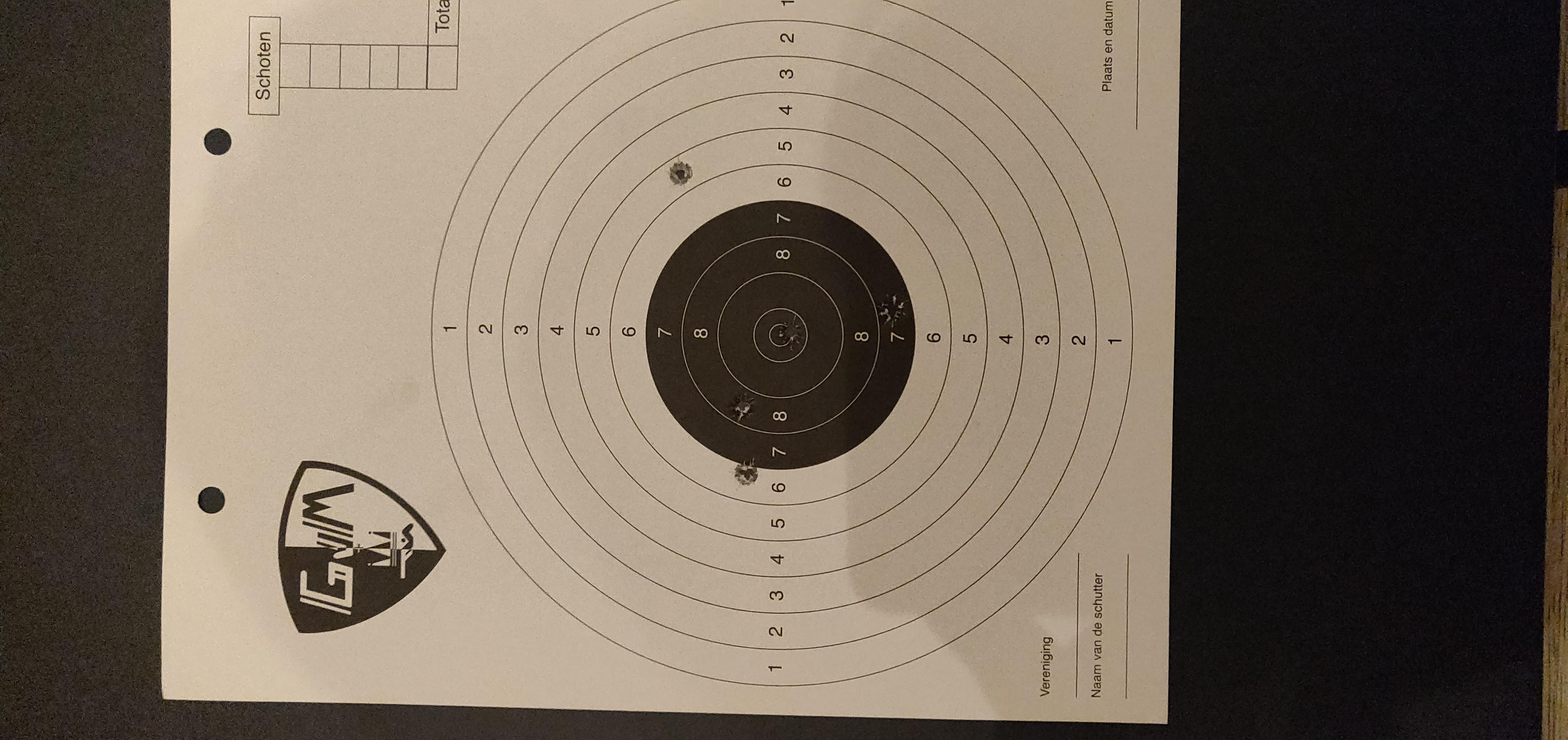hole: (871, 415, 952, 428), (826, 367, 898, 379), (672, 343, 736, 356), (535, 347, 601, 358), (1172, 316, 1230, 327)
